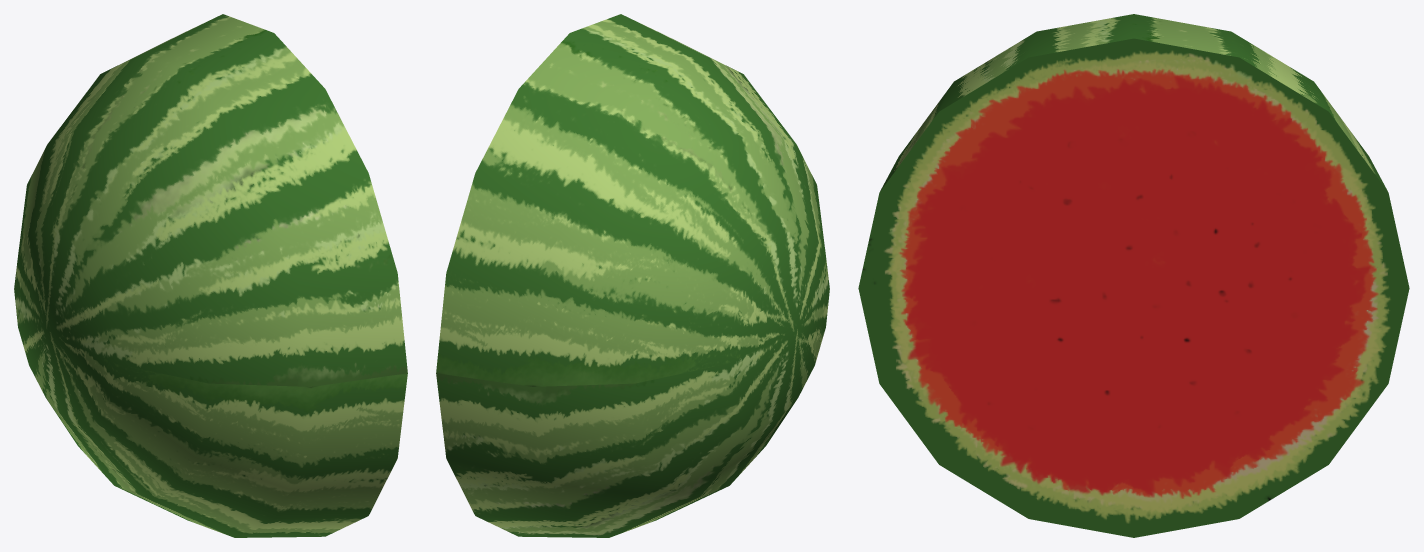
Rendered from WaterMelonHalf2.gltf.
The picture shows the model from 3 angles, left to right: view 1: azimuth 30°, elevation 25°; view 2: azimuth 150°, elevation 25°; view 3: azimuth 270°, elevation 25°; orthographic projection. The views are drawn at different scales.
Visible parts, largest first — view 1: Sphere.001; view 2: Sphere.001; view 3: Sphere.001.
Part boxes in pixels (x1,y1,x2,y2): Sphere.001: (14, 14, 407, 537); Sphere.001: (436, 14, 829, 537); Sphere.001: (858, 14, 1409, 537).
Bounding box in the file's own units: 0.9772 × 2 × 2.
1 material, 1 textured.
